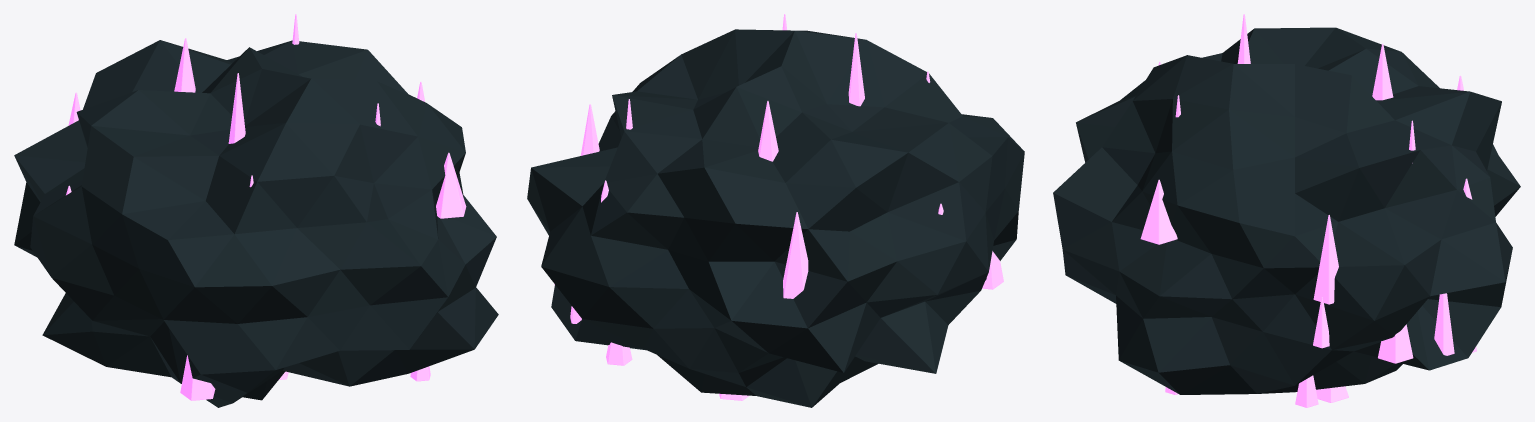
The model's file is ore_phase_stone.glb.
3 renders of one model, left to right at view 1: azimuth 30°, elevation 25°; view 2: azimuth 150°, elevation 25°; view 3: azimuth 270°, elevation 25°, orthographic. The views are drawn at different scales.
Parts seen in each view (by area): view 1: silent_dark.001, ore_phase_stone_vein; view 2: silent_dark.001, ore_phase_stone_vein; view 3: silent_dark.001, ore_phase_stone_vein.
Part boxes in pixels (bbox=[...]): silent_dark.001: bbox=[14, 40, 498, 407]; ore_phase_stone_vein: bbox=[66, 14, 466, 400]; silent_dark.001: bbox=[527, 29, 1024, 407]; ore_phase_stone_vein: bbox=[554, 14, 1003, 400]; silent_dark.001: bbox=[1053, 27, 1520, 394]; ore_phase_stone_vein: bbox=[1140, 14, 1476, 407].
Bounding box in the file's own units: 47.67 × 38.18 × 46.31.
